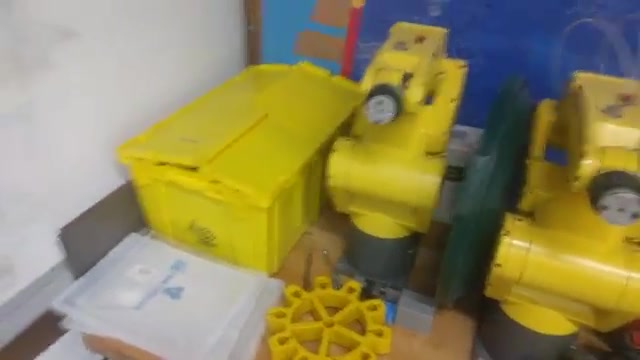gear: (263, 274, 392, 360)
